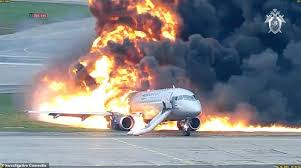maybay_dansu: (63, 72, 208, 137)
